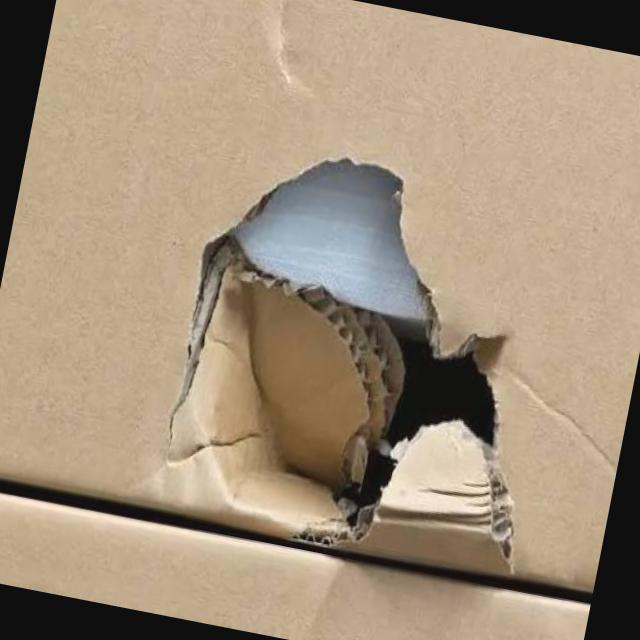package_damage: (132, 112, 590, 590)
